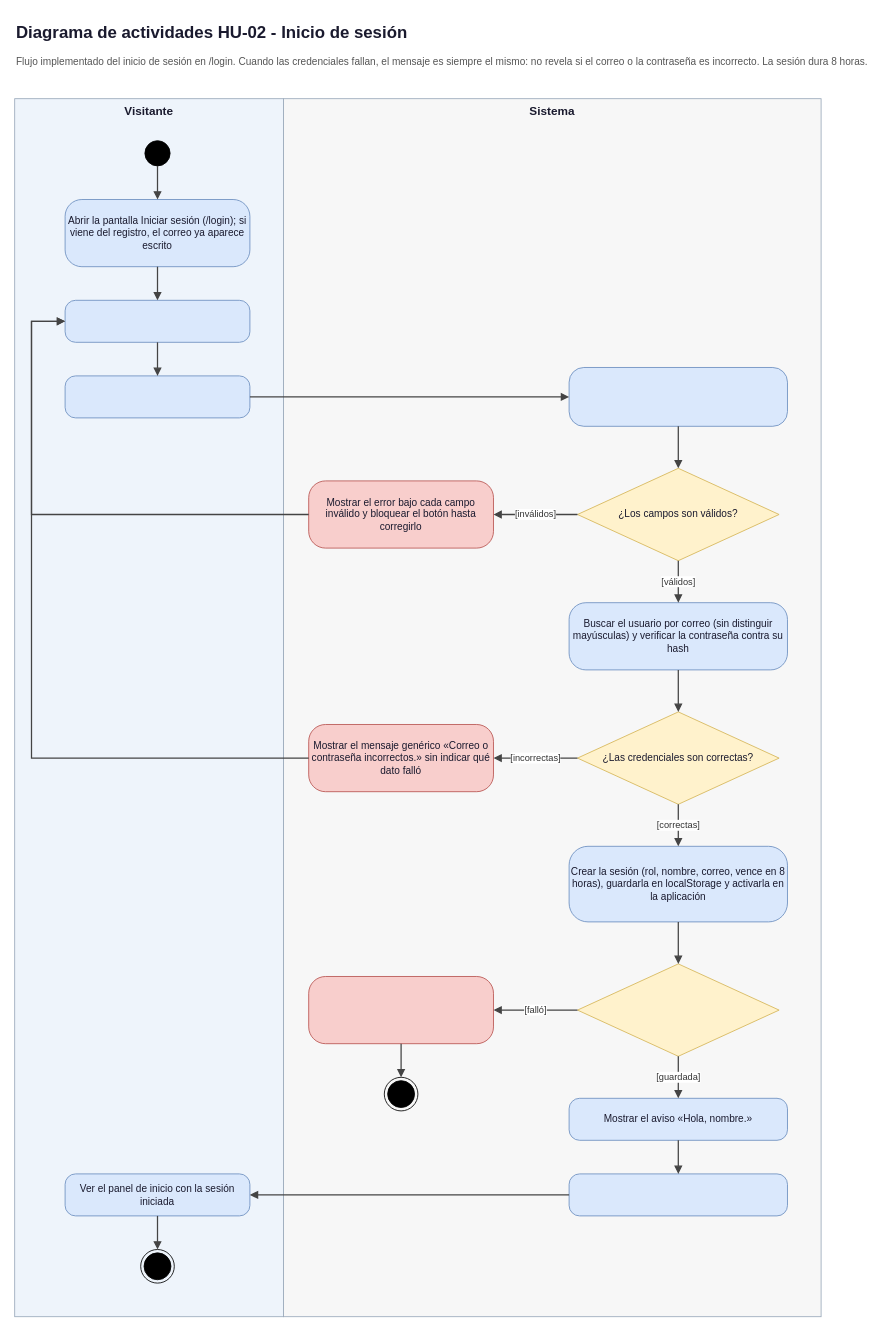
The diagram is 886 pixels wide and 1331 high, and some of its shapes have lost their labels. Each missing label, with the centre of its shape:
Enviar el formulario con el botón Iniciar sesión: (157,396)
Escribir el correo y la contraseña: (157,320)
Mostrar la alerta «No se pudo guardar en el almacenamiento del navegador…»: (401,1010)
Redirigir a /dashboard: (678,1194)
Validar que el correo tenga formato válido y que la contraseña no esté vacía: (678,396)
¿Se guardó la sesión?: (678,1009)
